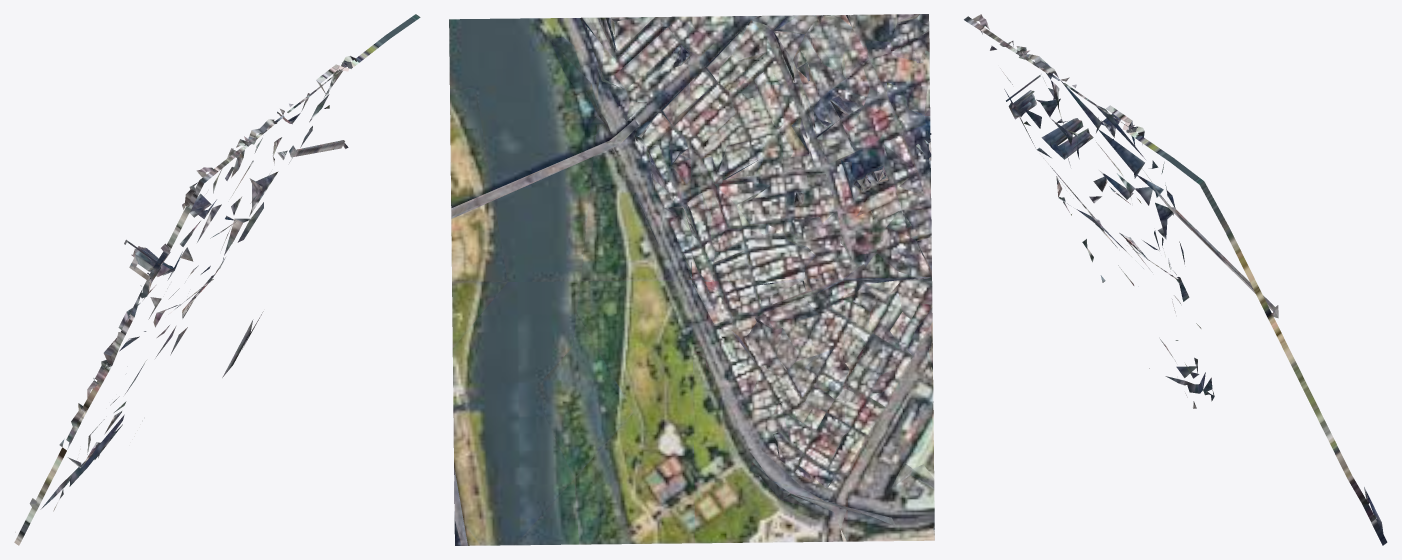
3 renders of one model, left to right at view 1: azimuth 30°, elevation 25°; view 2: azimuth 150°, elevation 25°; view 3: azimuth 270°, elevation 25°, orthographic. The views are drawn at different scales.
Size of the model in its own units: 1227 by 1122 by 1034.
1 material, 1 textured.
